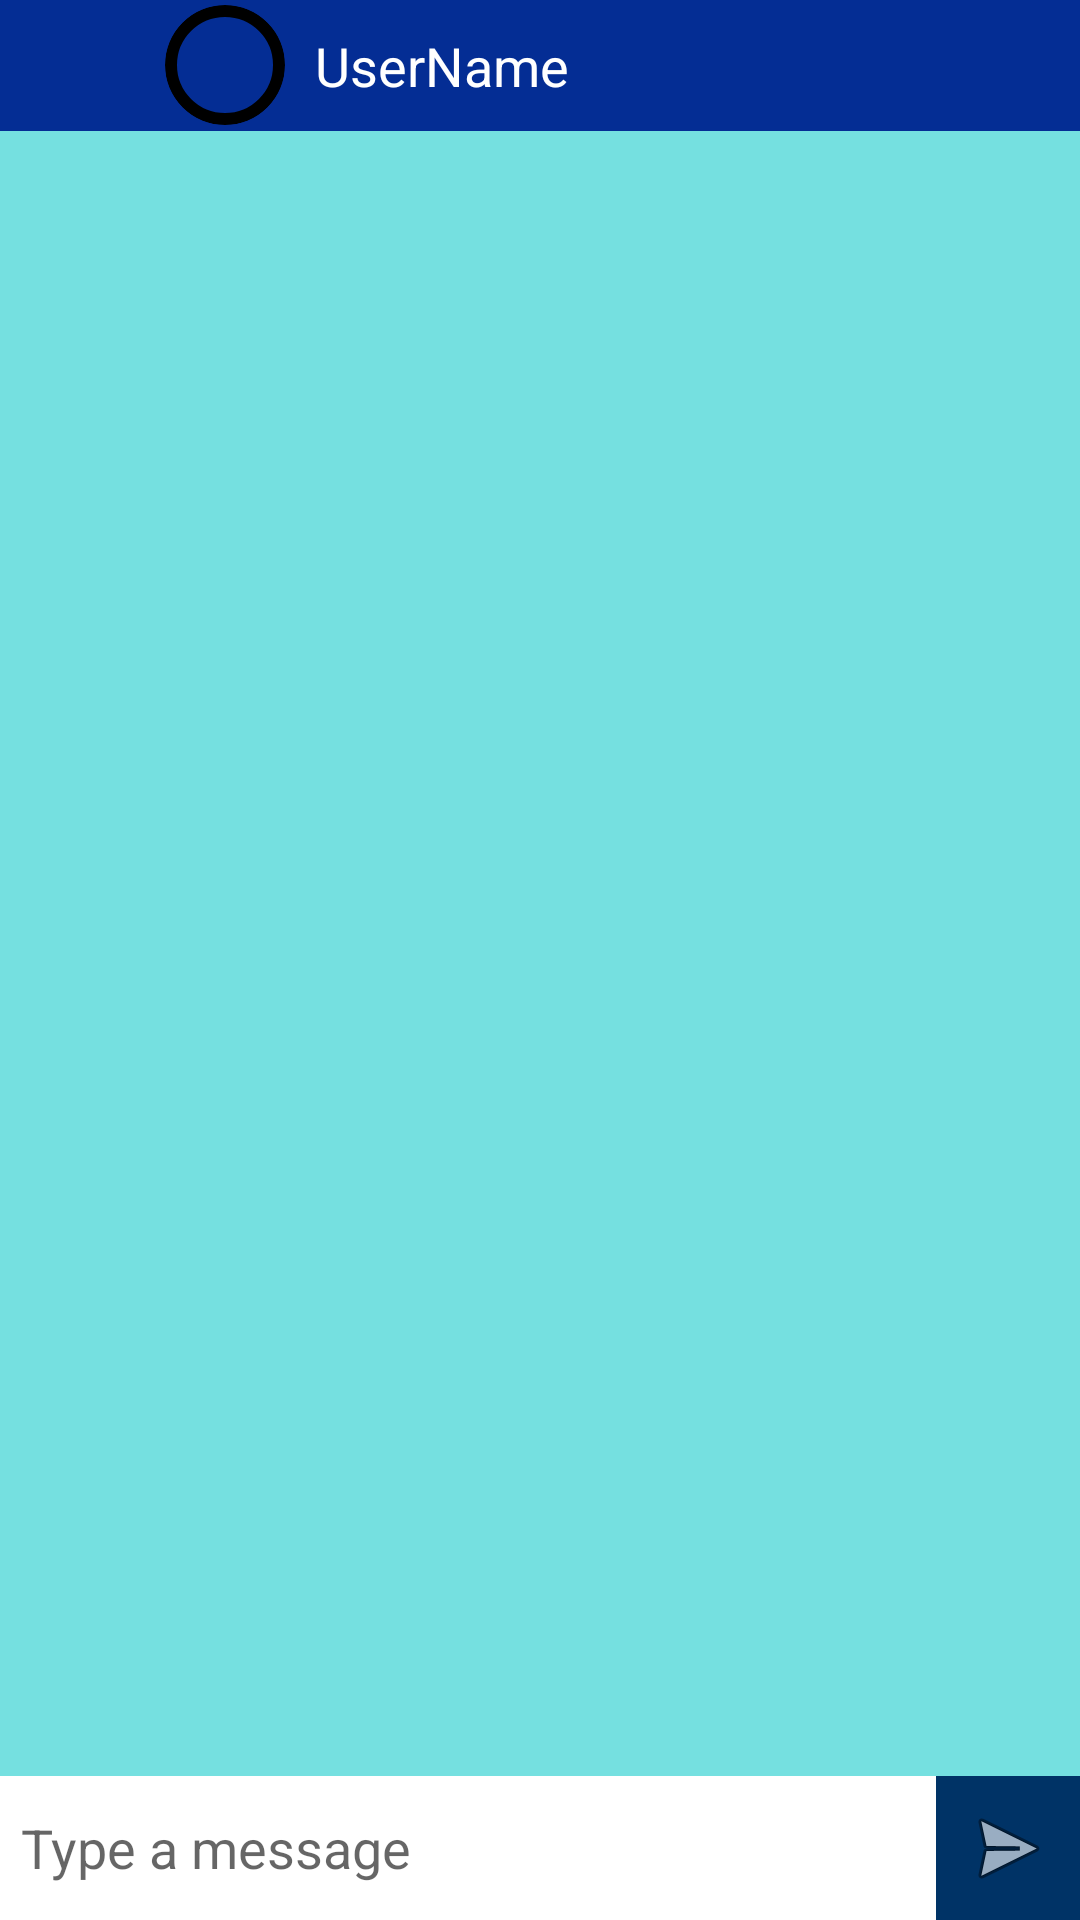

Point at icon controls on the screen. Image size 1080*1920, points as (x=x, y=y).
Send: (x=1008, y=1848)
